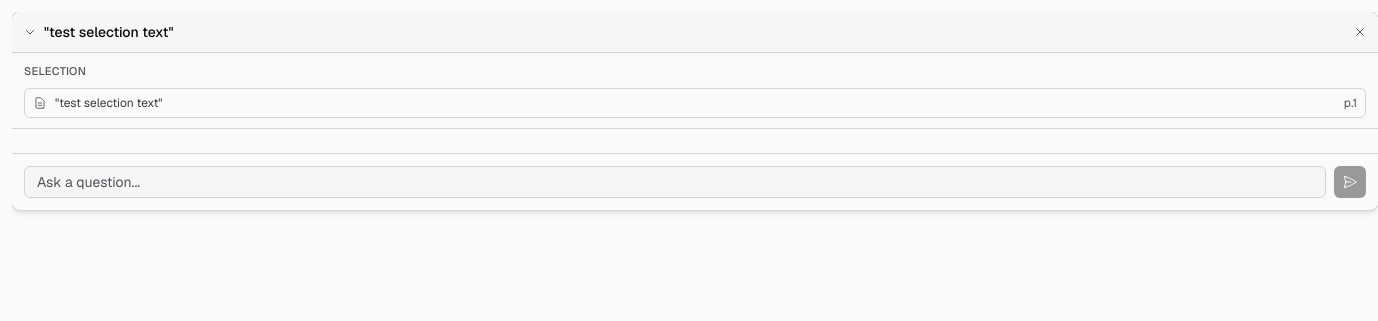
Test: AIPopover › Step 11: Retry button › retry resends the failed message
The width and height of the screenshot is (1378, 321).
# Send initial message
Type "my question" into the field with placeholder "Ask a question..." at (675, 182), box [24, 166, 1326, 198]
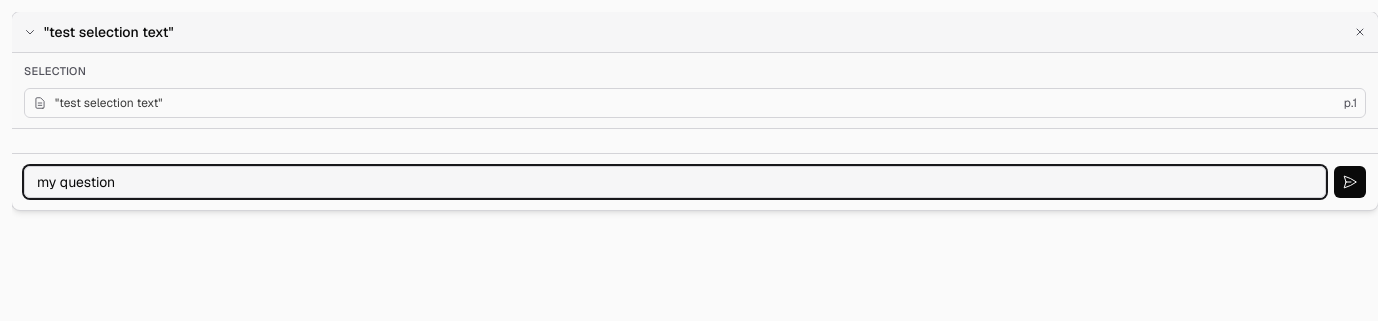
Submit the form with placeholder "Ask a question...", box [12, 152, 1377, 210]
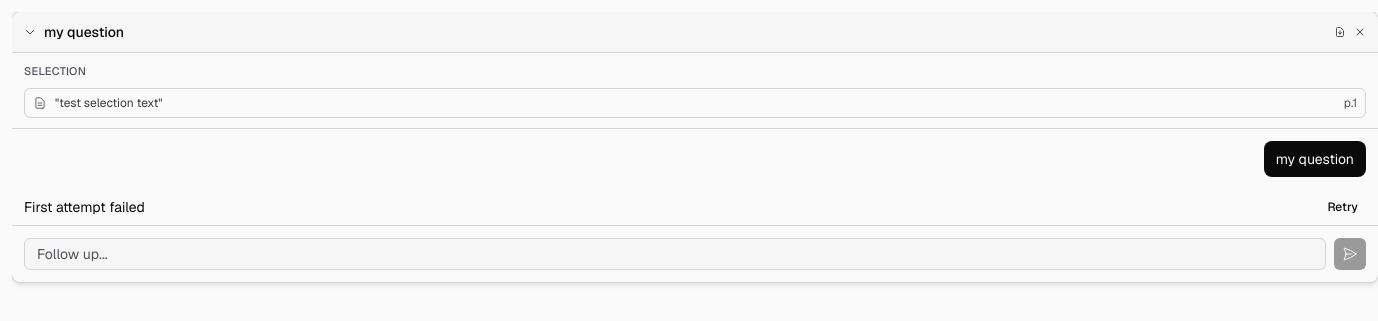
Expected: the button "Retry" is shown
# Click retry
Click the button "Retry" at (1343, 206), box [1319, 196, 1366, 216]
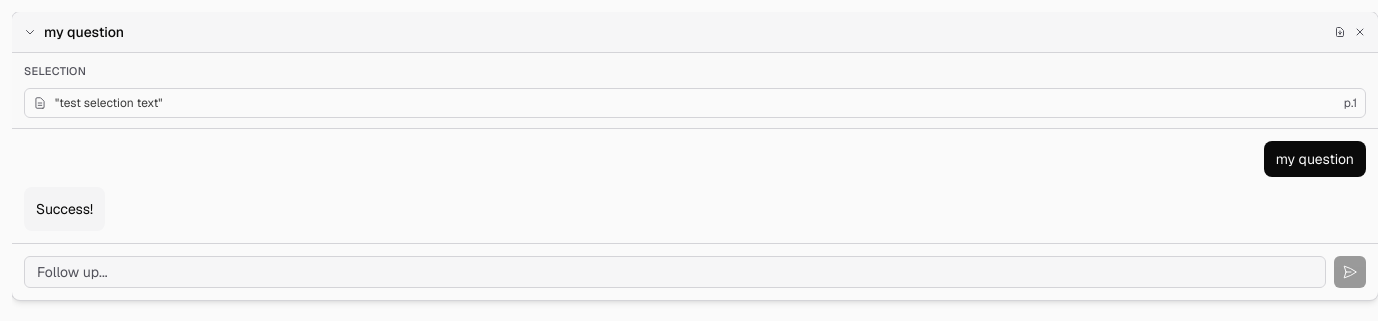
Expected: the text "Success!" is shown, [36, 198, 93, 218]
